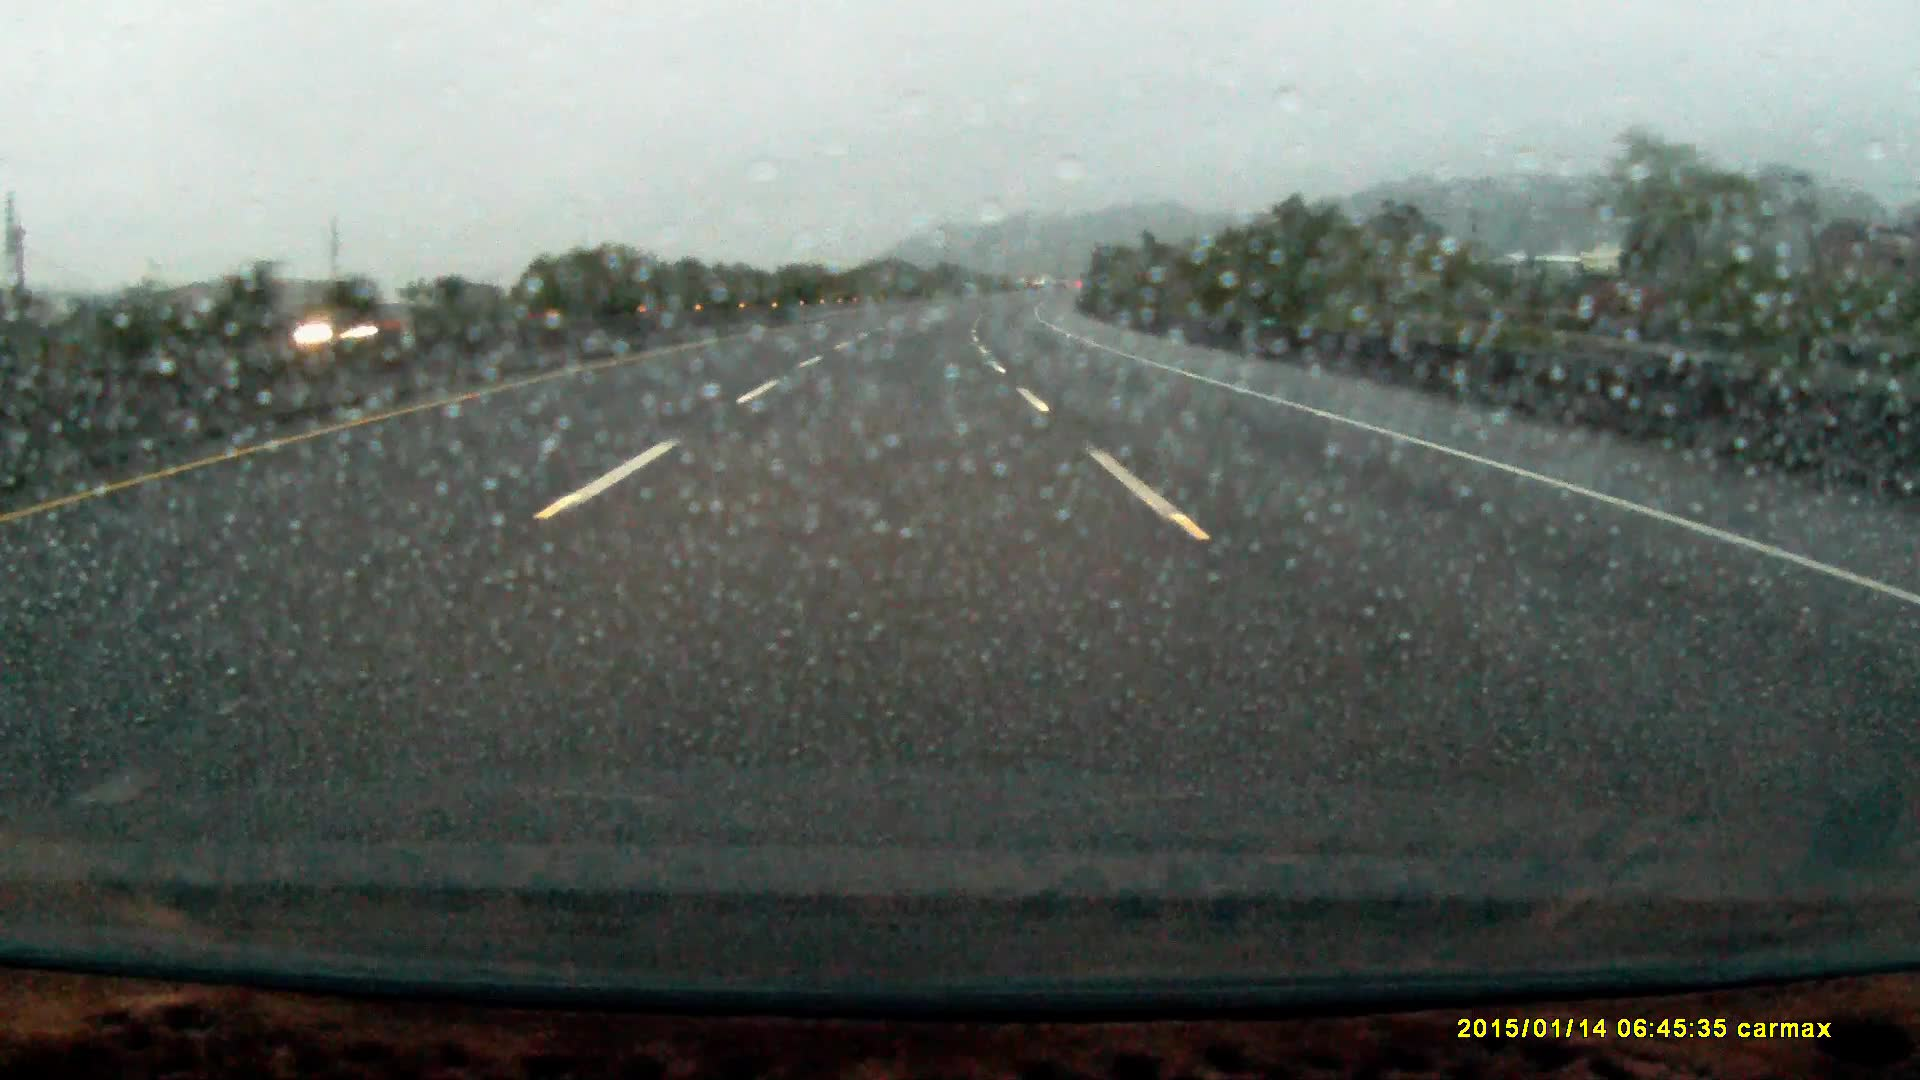vehicle: (291, 303, 414, 353)
